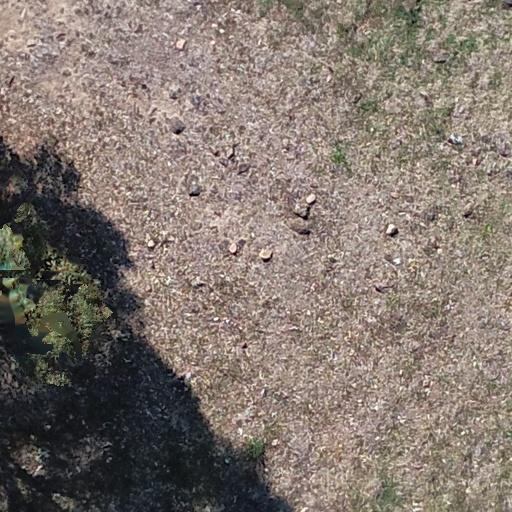stone: (424, 45, 448, 64), (450, 101, 468, 120), (382, 222, 398, 236), (418, 90, 432, 106), (187, 182, 201, 197), (304, 191, 318, 205), (259, 248, 273, 262), (448, 134, 464, 145), (237, 164, 251, 176), (146, 105, 158, 119), (226, 145, 236, 161), (132, 23, 145, 35), (351, 92, 363, 104), (175, 37, 186, 50), (25, 38, 38, 49), (228, 243, 239, 255), (55, 32, 67, 43), (383, 253, 394, 265), (218, 157, 230, 167), (192, 281, 206, 289), (169, 89, 179, 100), (139, 82, 149, 92), (374, 285, 386, 293), (147, 238, 156, 248), (500, 149, 510, 158), (389, 190, 399, 199), (212, 149, 221, 158), (326, 66, 334, 76), (471, 157, 479, 167), (392, 257, 402, 265), (486, 168, 496, 176), (271, 438, 279, 448), (282, 144, 290, 153), (150, 260, 156, 270), (260, 387, 266, 397), (241, 342, 248, 350), (218, 28, 225, 34)
